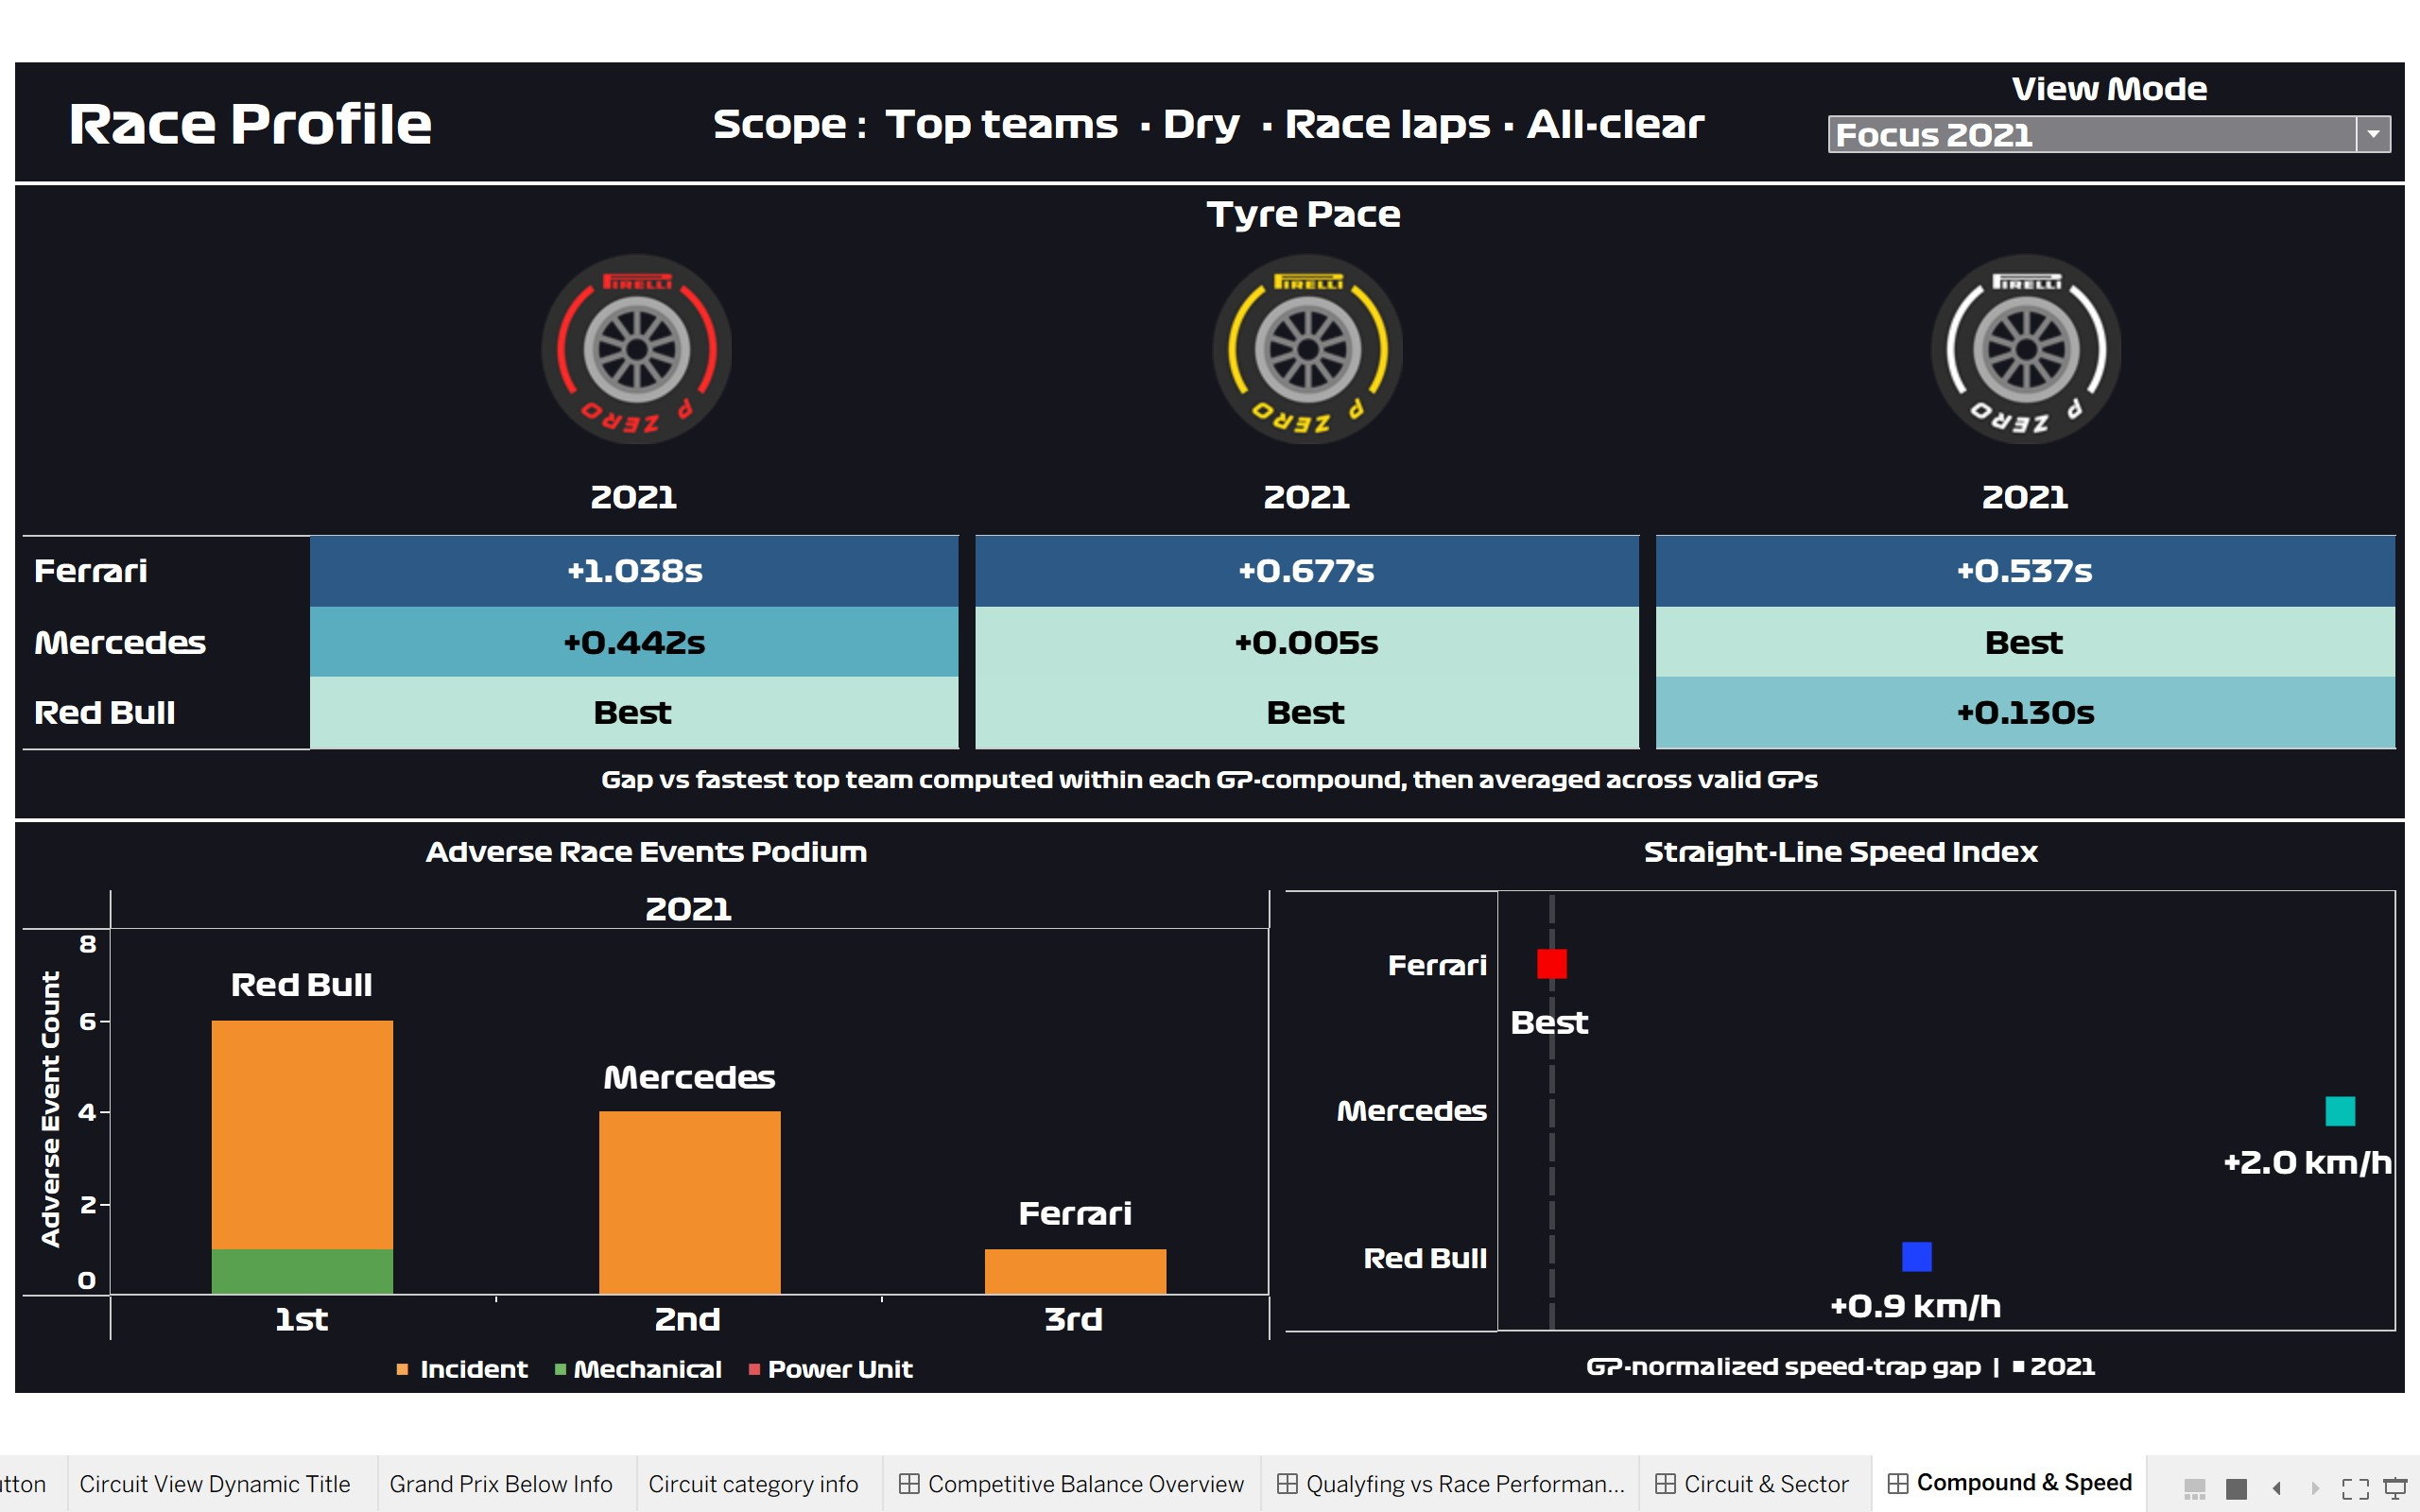

What the dashboard file says about the page in this screenshot:
{"tool":"tableau","page":{"name":"Compound & Speed","canvas":[1280,720],"ordinal":2},"visuals":[{"type":"text","box":[8,8,361,63]},{"type":"text","box":[369,8,591,63]},{"type":"parameter","param":"[Parameters].[Parameter 4]","box":[960,8,312,63]},{"type":"text","box":[8,73,1264,23]},{"type":"blank","box":[8,98,153,109]},{"type":"image","param":"Image/soft_tyre.png","box":[161,98,351,109]},{"type":"image","param":"Image/medium_tyre.png","box":[512,98,360,109]},{"type":"image","param":"Image/hard_tyre.png","box":[872,98,400,109]},{"type":"worksheet","title":"Tyre Pace — Soft","mark":"Square","rows":["team_name"],"cols":["season_year"],"box":[8,207,504,162]},{"type":"worksheet","title":"Tyre Pace — Medium","mark":"Square","rows":["team_name"],"cols":["season_year"],"box":[512,207,360,162]},{"type":"worksheet","title":"Tyre Pace — Hard","mark":"Square","rows":["team_name"],"cols":["season_year"],"box":[872,207,400,162]},{"type":"text","box":[8,369,1264,18]},{"type":"worksheet","title":"Adverse Race Events Podium","mark":"Text","rows":["Calculation_3198775210897408","Calculation_1434608050249745"],"cols":["season_year"],"box":[8,403,668,309]},{"type":"worksheet","title":"Straight-Line Speed Index","mark":"Line","rows":["team_name"],"box":[676,403,596,281]},{"type":"worksheet","title":"Speed Shape Legend","mark":"Automatic","box":[676,684,596,28]}]}

Visuals, with their boxes on the page's 1280x720 design canvas (x1, y1, x2, y2). These are canvas units, not pixel positions in the 2420x1512 screenshot, which may show the page scaled, cropped or inside an application window:
text: {"x1": 8, "y1": 8, "x2": 369, "y2": 71}
text: {"x1": 369, "y1": 8, "x2": 960, "y2": 71}
parameter: {"x1": 960, "y1": 8, "x2": 1272, "y2": 71}
text: {"x1": 8, "y1": 73, "x2": 1272, "y2": 96}
blank: {"x1": 8, "y1": 98, "x2": 161, "y2": 207}
image: {"x1": 161, "y1": 98, "x2": 512, "y2": 207}
image: {"x1": 512, "y1": 98, "x2": 872, "y2": 207}
image: {"x1": 872, "y1": 98, "x2": 1272, "y2": 207}
"Tyre Pace — Soft" worksheet (Square marks): {"x1": 8, "y1": 207, "x2": 512, "y2": 369}
"Tyre Pace — Medium" worksheet (Square marks): {"x1": 512, "y1": 207, "x2": 872, "y2": 369}
"Tyre Pace — Hard" worksheet (Square marks): {"x1": 872, "y1": 207, "x2": 1272, "y2": 369}
text: {"x1": 8, "y1": 369, "x2": 1272, "y2": 387}
"Adverse Race Events Podium" worksheet (Text marks): {"x1": 8, "y1": 403, "x2": 676, "y2": 712}
"Straight-Line Speed Index" worksheet (Line marks): {"x1": 676, "y1": 403, "x2": 1272, "y2": 684}
"Speed Shape Legend" worksheet: {"x1": 676, "y1": 684, "x2": 1272, "y2": 712}
